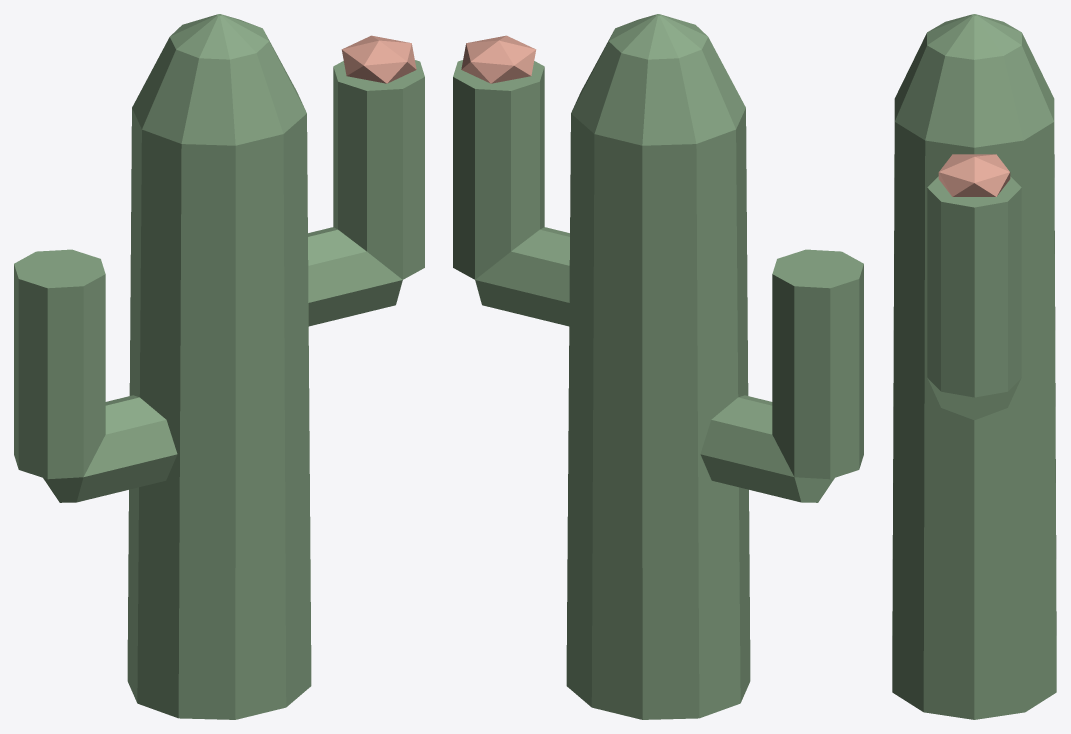
Rendered from cactus.glb.
The picture shows the model from 3 angles, left to right: view 1: azimuth 30°, elevation 25°; view 2: azimuth 150°, elevation 25°; view 3: azimuth 270°, elevation 25°; orthographic projection.
Parts seen in each view (by area): view 1: Ribbed cactus, Desert flower; view 2: Ribbed cactus, Desert flower; view 3: Ribbed cactus, Desert flower.
Part boxes in pixels (<box>): Ribbed cactus: <box>14,14,424,719</box>; Desert flower: <box>341,35,416,83</box>; Ribbed cactus: <box>453,14,863,719</box>; Desert flower: <box>461,35,536,83</box>; Ribbed cactus: <box>892,14,1056,719</box>; Desert flower: <box>938,154,1010,196</box>.
Size of the model in its own units: 1.76 by 2.8 by 0.6277.
